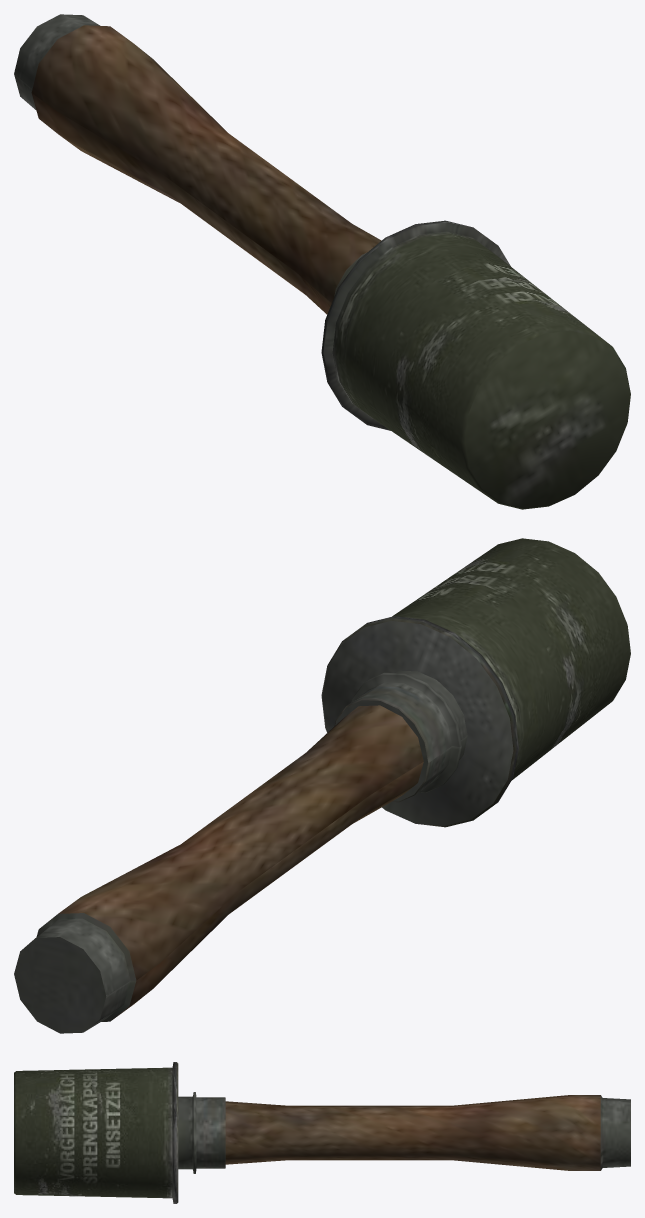
File: viewmodel_germangrenade.glb
3 views of the same model, one above another, from view 1: azimuth 30°, elevation 25°; view 2: azimuth 150°, elevation 25°; view 3: azimuth 270°, elevation 25° (orthographic). The views are drawn at different scales.
Bounding box in the file's own units: 2.75 × 2.75 × 11.92.
1 material, 1 textured.
